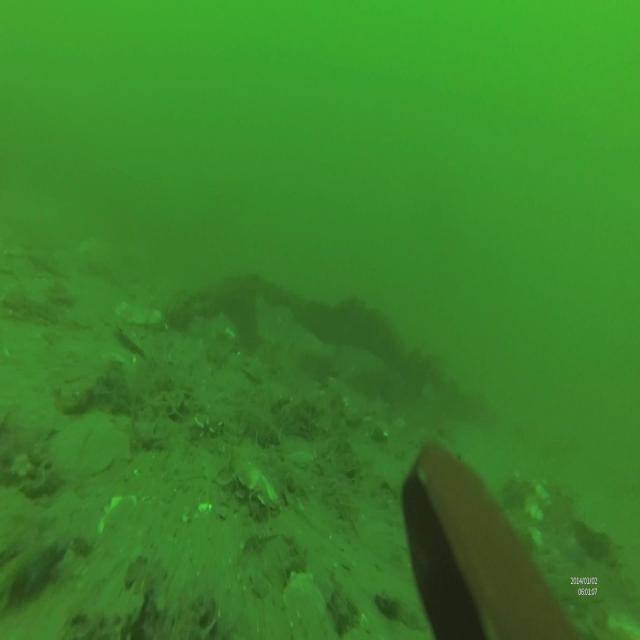scallop: (282, 570, 328, 638), (233, 458, 280, 511)
